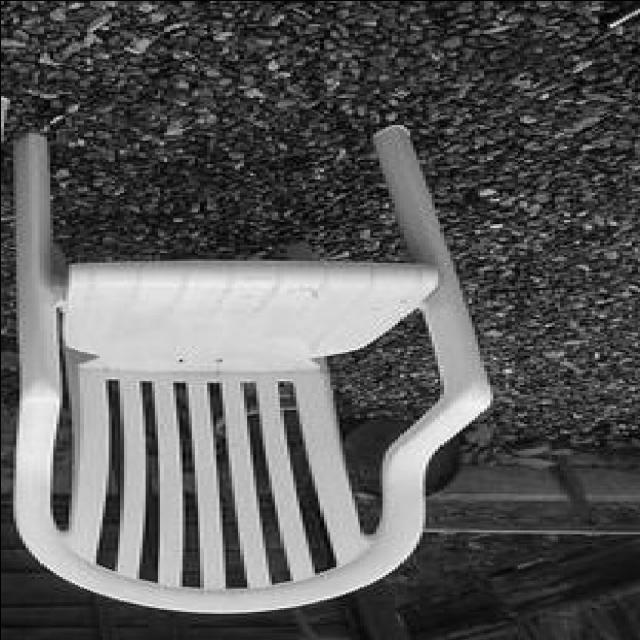chair: (14, 126, 498, 614)
